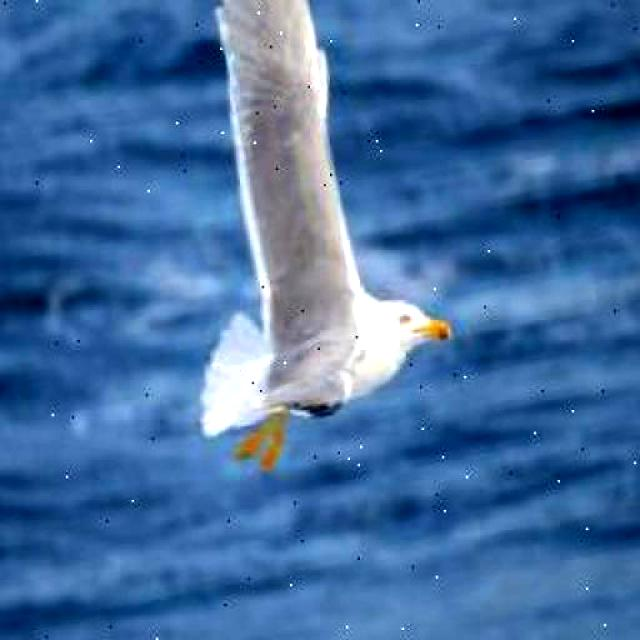airplane: (84, 0, 476, 489)
